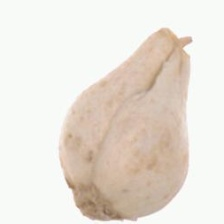L1: (69, 183, 121, 221), (154, 23, 191, 70)
L2: (58, 28, 190, 220)
